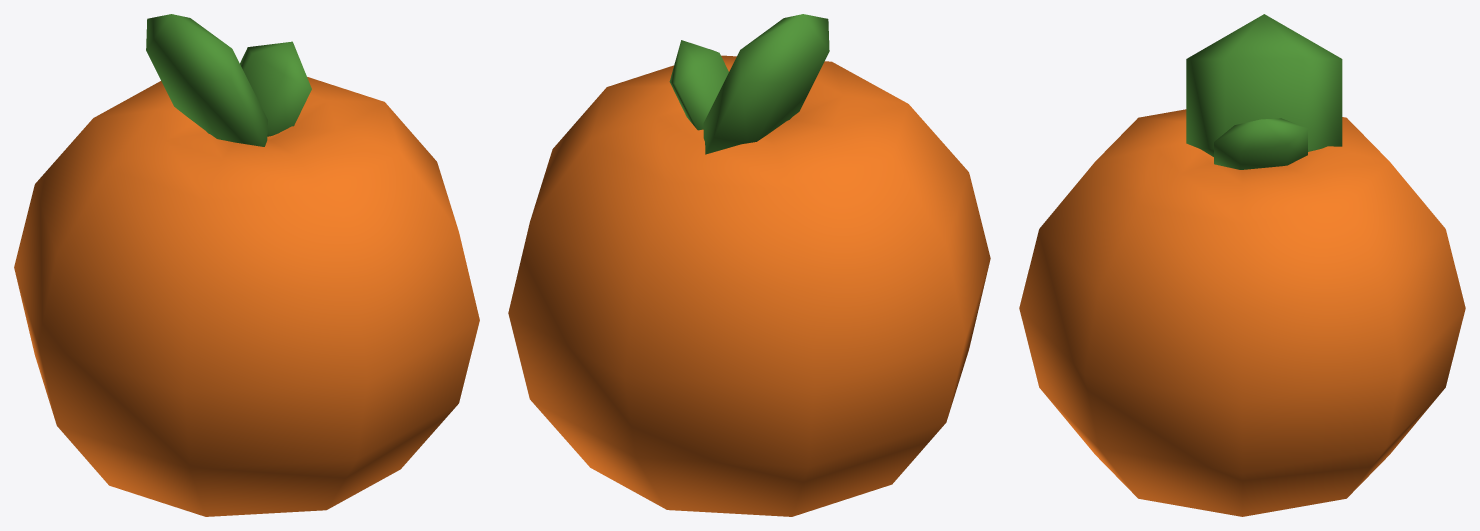
Rendered from Orange.fbx.
3 views of the same model, side by side, from view 1: azimuth 30°, elevation 25°; view 2: azimuth 150°, elevation 25°; view 3: azimuth 270°, elevation 25° (orthographic). The views are drawn at different scales.
Visible parts, largest first — view 1: Orange; view 2: Orange; view 3: Orange.
Part boxes in pixels (bbox=[...]): Orange: bbox=[14, 14, 479, 516]; Orange: bbox=[508, 14, 990, 516]; Orange: bbox=[1019, 14, 1465, 516].
Bounding box in the file's own units: 191 × 200 × 191.
